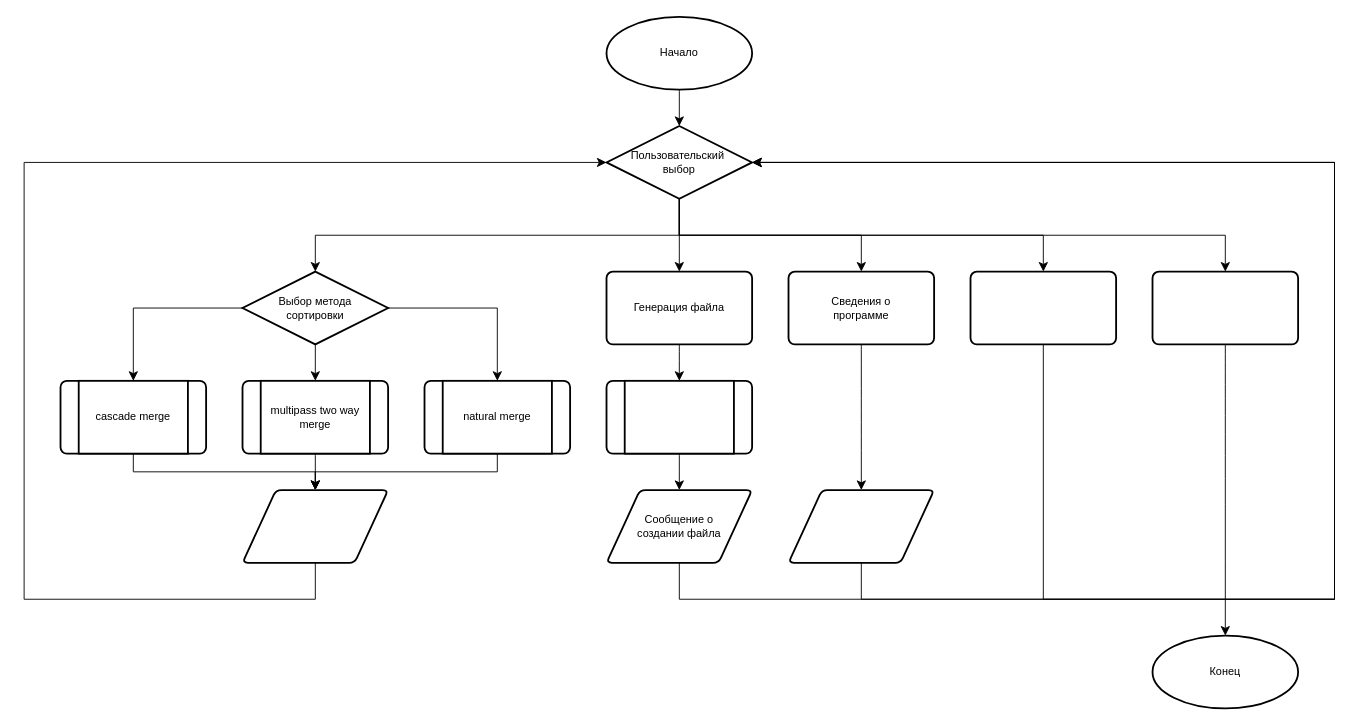
The diagram is 1360 pixels wide and 724 high, and some of its shapes have lost their labels. Each missing label, with the centre of its shape:
"creating large file" belongs at (678,416).
"Вывод сведений о программе" belongs at (861,526).
"Выход из программы" belongs at (1225,307).
"Отсортированный файл и статистика" belongs at (315,526).
"Очистка элементов ввода-вывода" belongs at (1043,307).
